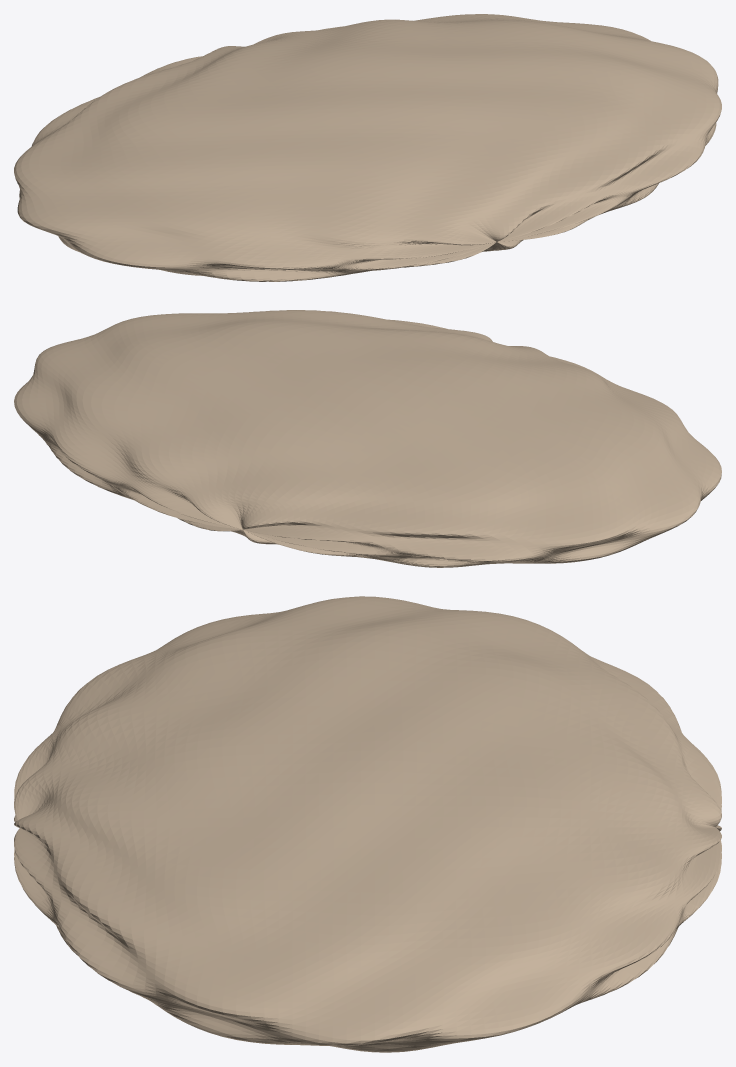
Rendered from 04_coronal_section.glb.
3 views of the same model, one above another, from view 1: azimuth 30°, elevation 25°; view 2: azimuth 150°, elevation 25°; view 3: azimuth 270°, elevation 25° (orthographic). The views are drawn at different scales.
Parts seen in each view (by area): view 1: Coronal brain section; view 2: Coronal brain section; view 3: Coronal brain section.
Part boxes in pixels (<box>): Coronal brain section: <box>14,14,721,281</box>; Coronal brain section: <box>14,310,721,567</box>; Coronal brain section: <box>14,596,721,1052</box>.
Size of the model in its own units: 3.17 by 0.3653 by 2.14.
